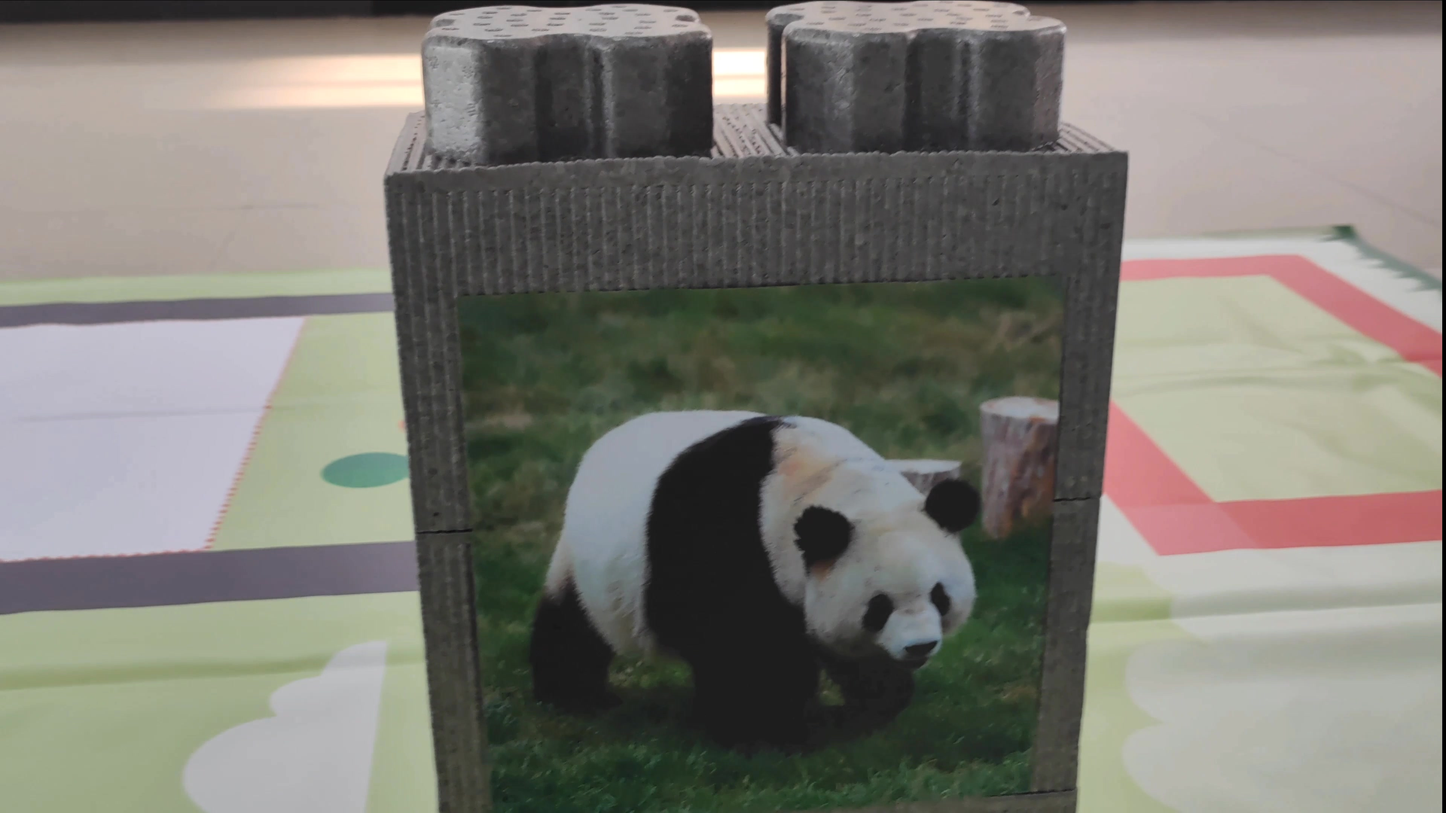panda: (512, 351, 992, 760)
